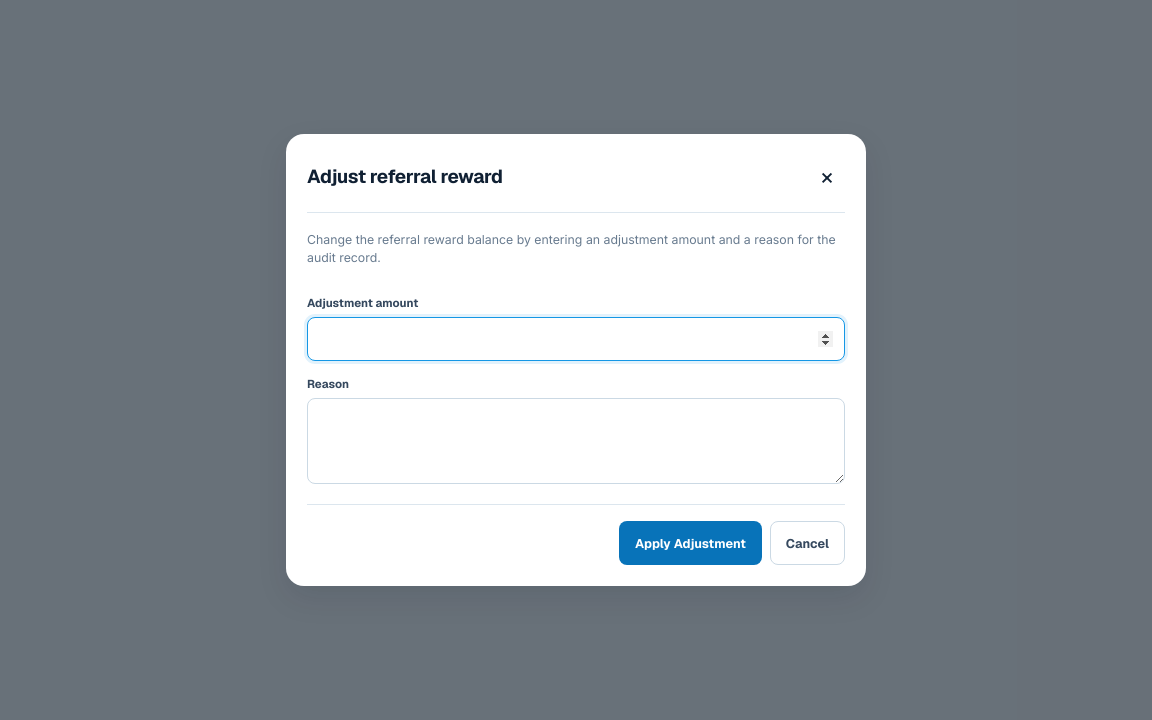
Test: RewardAdjustmentDialog › shows API error inside the dialog
This screenshot has width=1152, height=720.
In the number field labelled "Adjustment amount": (576,339) [307, 317, 845, 361], type "30"
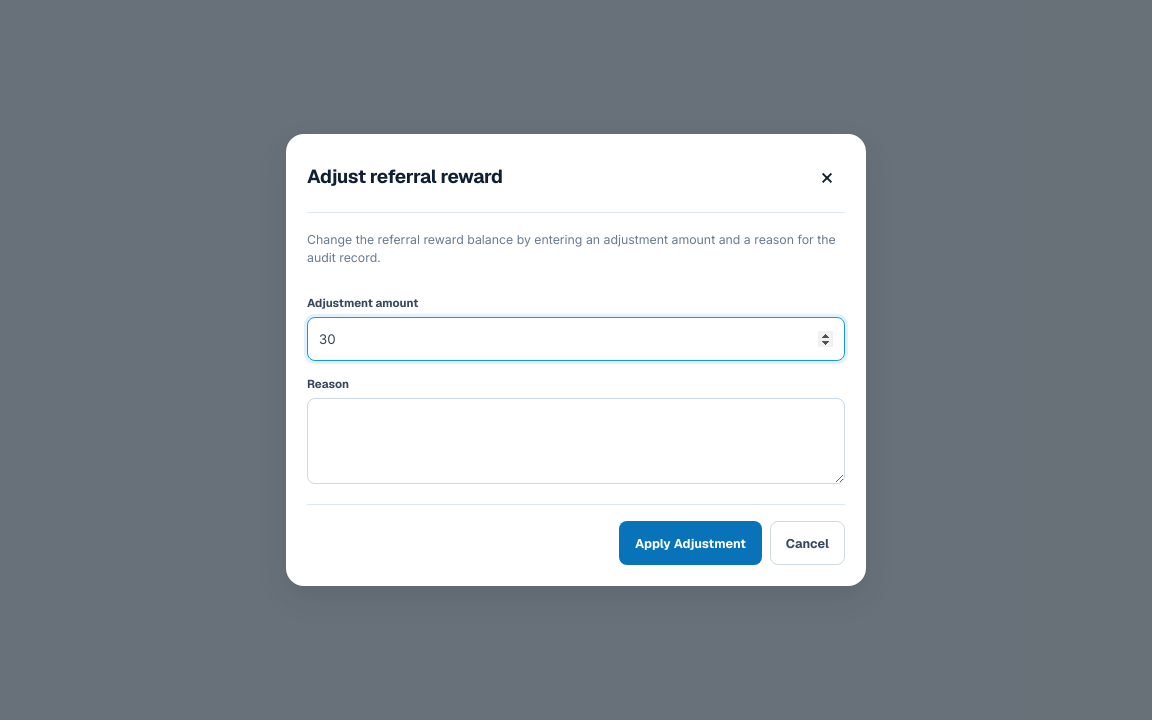
In the text box labelled "Reason": (576,441) [307, 398, 845, 484], type "Attempted adjustment"
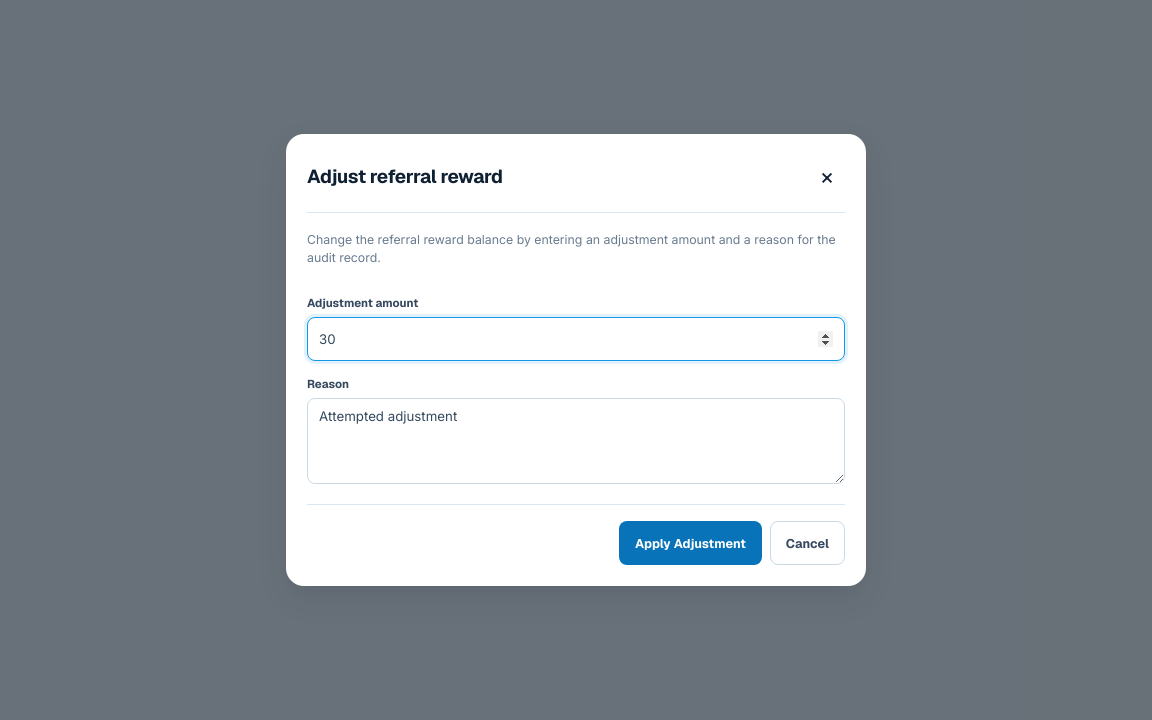
Submit the form, box [307, 231, 845, 565]
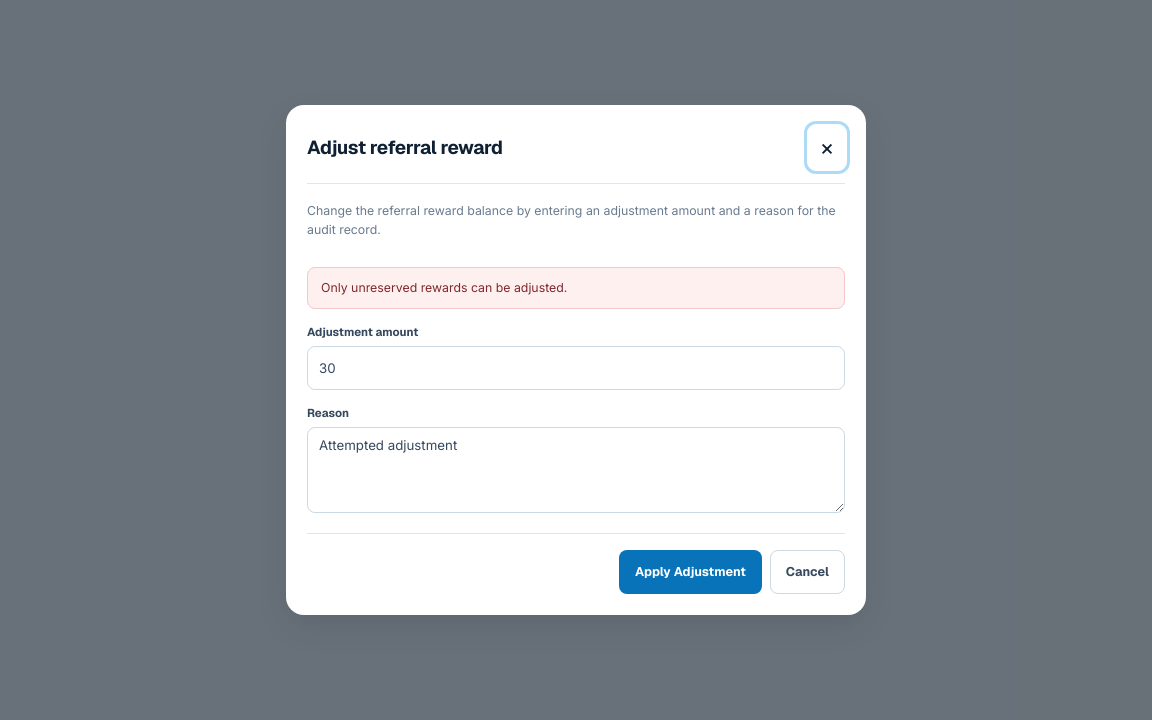
Expected: the text "Only unreserved rewards can be adjusted." is shown, [307, 267, 845, 308]
